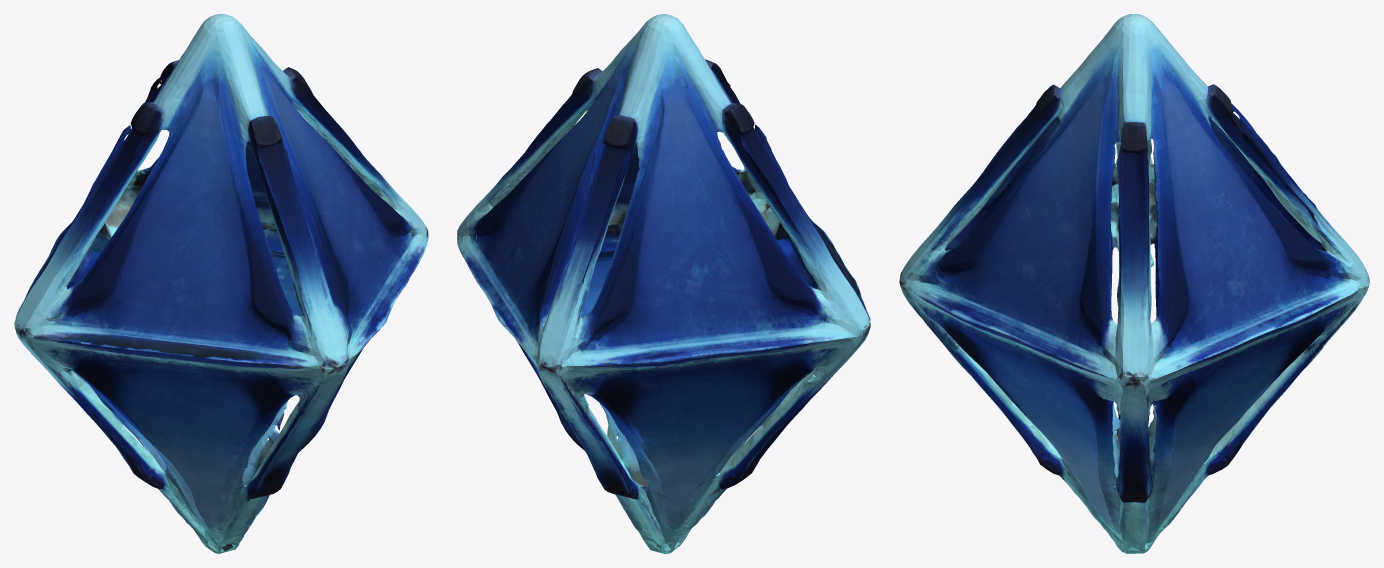
File: energy-crystal.glb
The picture shows the model from 3 angles, left to right: view 1: azimuth 30°, elevation 25°; view 2: azimuth 150°, elevation 25°; view 3: azimuth 270°, elevation 25°; orthographic projection.
Parts seen in each view (by area): view 1: world; view 2: world; view 3: world.
Part boxes in pixels (x1=…): world: x1=14, y1=14, x2=428, y2=553; world: x1=457, y1=14, x2=870, y2=553; world: x1=899, y1=14, x2=1369, y2=553.
Size of the model in its own units: 0.789 by 0.9891 by 0.7882.
1 material, 1 textured.
